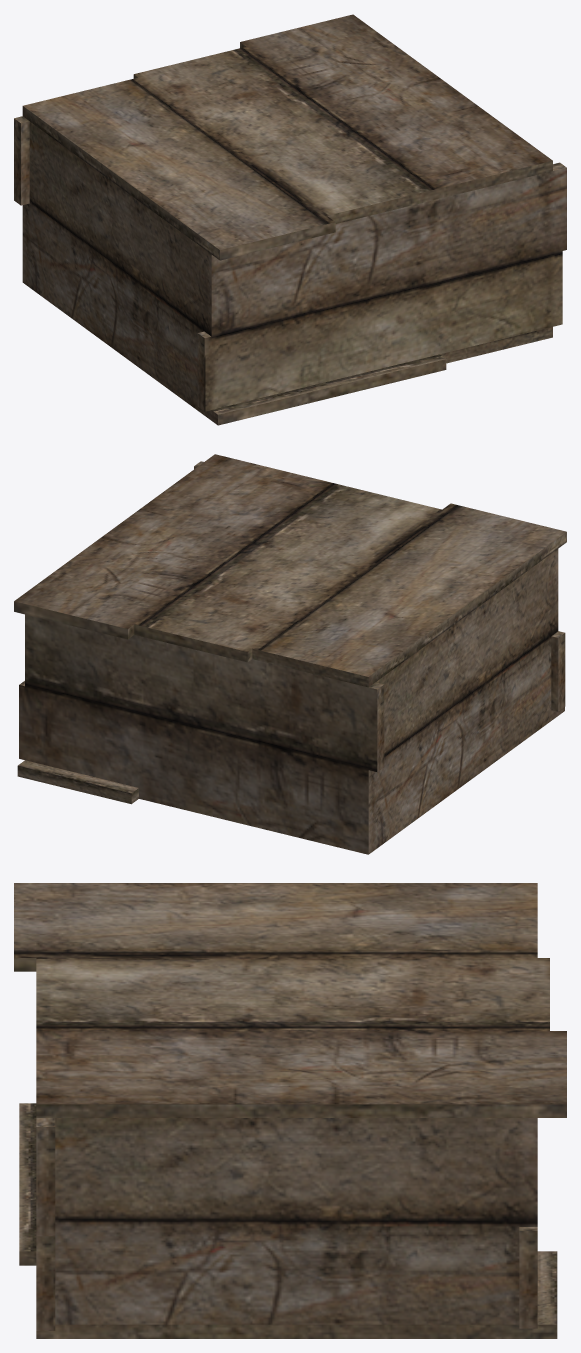
Rendered from SM_CrateSmall.fbx.
3 views of the same model, one above another, from view 1: azimuth 30°, elevation 25°; view 2: azimuth 150°, elevation 25°; view 3: azimuth 270°, elevation 25° (orthographic). The views are drawn at different scales.
Visible parts, largest first — view 1: pCube1; view 2: pCube1; view 3: pCube1.
Boxes of the visible parts, x1=… form: pCube1: x1=14, y1=14, x2=566, y2=425; pCube1: x1=14, y1=454, x2=566, y2=854; pCube1: x1=14, y1=883, x2=566, y2=1338.
Size of the model in its own units: 47.29 by 21.94 by 46.86.
